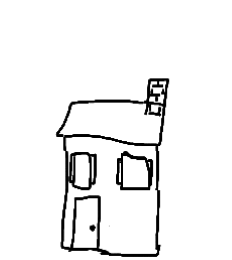bottom_placed_house: (3, 3, 232, 260)
chimney: (144, 71, 178, 125)
door: (67, 193, 103, 257)
open_window: (110, 148, 156, 201), (64, 149, 95, 193)
roof: (50, 93, 175, 150)
wall: (57, 131, 166, 257)
